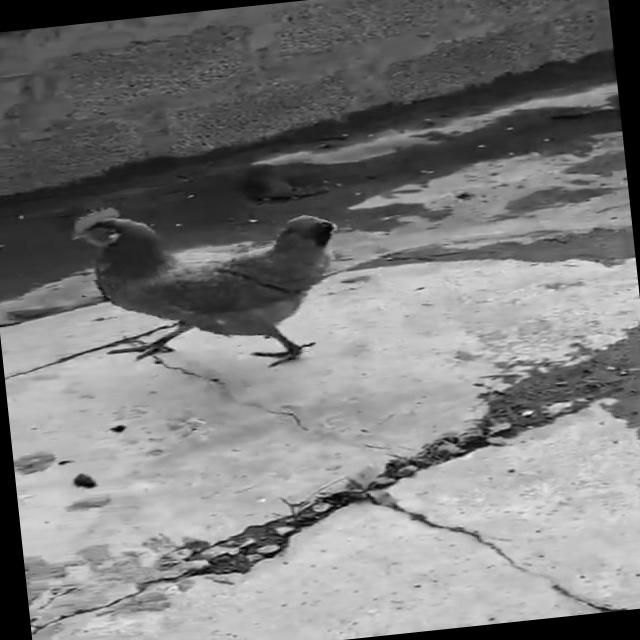walking: (48, 176, 374, 394)
